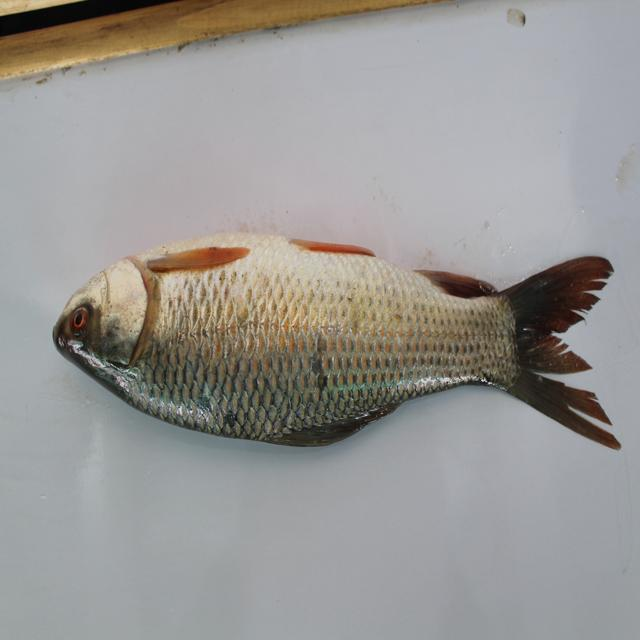Rohu: (50, 218, 624, 486)
